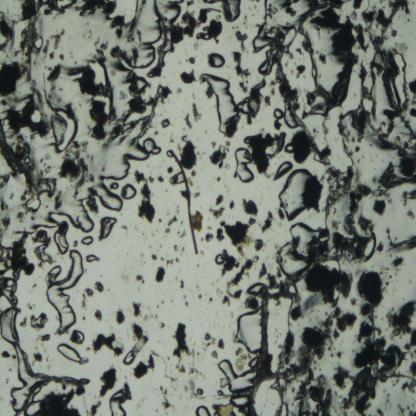Air bubble: (43, 249, 83, 336), (99, 118, 155, 178), (125, 0, 166, 69), (200, 72, 238, 138), (266, 294, 292, 376), (275, 222, 311, 276), (9, 354, 38, 413), (280, 167, 309, 226), (54, 198, 98, 235), (234, 305, 263, 352), (53, 107, 78, 153), (218, 360, 255, 388), (92, 182, 125, 211), (392, 50, 408, 107), (232, 148, 256, 185), (108, 0, 139, 24), (0, 272, 18, 304), (19, 191, 42, 215), (98, 214, 117, 242), (0, 306, 13, 346), (221, 0, 243, 23), (53, 230, 71, 258), (110, 389, 127, 416), (58, 344, 81, 363), (272, 160, 293, 179), (143, 137, 162, 156), (208, 51, 226, 69), (24, 398, 40, 416), (230, 393, 250, 407), (364, 237, 376, 260), (121, 182, 136, 199), (236, 96, 249, 115), (362, 97, 374, 115), (195, 403, 211, 416), (123, 350, 136, 365), (247, 283, 262, 295), (30, 109, 42, 124), (33, 36, 45, 50), (85, 254, 100, 263), (273, 108, 285, 119), (288, 283, 298, 296), (257, 61, 267, 74), (82, 234, 93, 245), (109, 180, 119, 192), (214, 253, 224, 264), (284, 144, 295, 154), (280, 403, 290, 414), (176, 172, 185, 184), (197, 387, 204, 396)
Background material: (341, 265, 416, 416), (314, 13, 369, 104), (0, 122, 56, 197), (0, 122, 57, 194), (310, 225, 367, 268), (302, 263, 352, 306), (294, 317, 334, 370), (0, 226, 36, 281), (172, 4, 218, 46), (369, 33, 395, 107), (292, 370, 333, 416), (4, 82, 37, 136), (243, 129, 275, 183), (344, 181, 376, 234), (58, 148, 93, 196), (374, 156, 412, 200), (221, 220, 264, 258), (325, 161, 357, 212), (363, 0, 415, 31), (222, 258, 254, 301), (37, 388, 82, 416), (21, 227, 53, 265), (70, 60, 101, 98), (16, 16, 40, 62), (0, 57, 28, 96), (98, 60, 115, 121), (84, 99, 108, 142), (124, 72, 148, 115), (301, 0, 344, 24), (262, 25, 299, 50), (247, 77, 267, 123), (280, 329, 298, 378), (304, 172, 325, 213), (138, 182, 158, 224), (232, 50, 250, 92), (330, 304, 355, 334), (193, 18, 225, 41), (154, 350, 178, 380), (208, 139, 231, 169), (352, 105, 371, 141), (111, 46, 139, 70), (75, 0, 117, 16), (98, 366, 119, 398), (0, 12, 15, 54), (180, 136, 197, 171), (42, 0, 76, 17), (26, 309, 49, 334), (258, 263, 280, 288), (357, 58, 370, 100), (383, 102, 402, 128), (133, 356, 154, 379), (390, 233, 416, 251), (159, 384, 176, 410), (278, 0, 298, 22), (222, 249, 237, 278), (22, 0, 42, 21), (172, 338, 192, 359), (191, 348, 205, 378), (48, 29, 68, 50), (338, 120, 353, 148), (357, 216, 376, 238), (333, 369, 352, 390), (126, 20, 143, 43), (44, 65, 63, 85), (211, 402, 238, 416), (93, 39, 108, 64), (183, 376, 198, 401), (235, 349, 252, 371), (130, 324, 149, 342), (234, 28, 247, 53), (180, 68, 198, 86), (261, 0, 279, 18), (398, 186, 416, 204), (242, 198, 258, 218), (111, 13, 127, 32), (173, 321, 189, 339), (157, 84, 173, 102), (378, 266, 391, 288), (292, 304, 307, 323), (93, 330, 118, 341), (193, 207, 204, 232), (0, 212, 13, 233), (29, 347, 44, 364), (263, 210, 273, 235), (129, 300, 144, 316), (119, 382, 131, 402), (293, 61, 306, 79), (192, 101, 203, 122), (374, 199, 389, 214), (210, 205, 226, 219), (408, 79, 416, 107), (91, 399, 104, 416), (214, 388, 229, 402), (303, 92, 317, 107), (276, 199, 286, 219), (375, 240, 386, 258), (390, 256, 405, 269), (351, 146, 366, 159), (69, 329, 86, 340), (214, 336, 227, 350), (204, 330, 214, 348), (155, 266, 165, 283), (402, 206, 416, 218), (134, 170, 146, 183), (396, 403, 408, 416), (94, 280, 105, 294), (318, 52, 329, 66), (214, 193, 224, 208), (167, 214, 179, 226), (167, 174, 179, 186), (81, 29, 93, 41), (218, 296, 231, 307), (116, 310, 126, 324), (75, 384, 86, 396), (410, 104, 416, 126), (227, 198, 236, 212), (42, 41, 51, 55), (0, 198, 9, 212), (186, 54, 196, 66), (143, 313, 159, 320), (264, 94, 272, 108), (136, 274, 146, 285), (376, 406, 387, 416), (177, 364, 187, 375), (93, 310, 102, 322), (207, 83, 214, 98), (240, 13, 248, 26), (185, 115, 193, 128), (351, 0, 361, 10), (0, 349, 10, 359), (161, 117, 170, 128), (385, 226, 392, 240), (20, 315, 27, 329), (39, 334, 51, 342), (206, 233, 214, 245), (115, 28, 123, 40), (84, 287, 93, 297), (211, 348, 219, 359), (121, 272, 130, 281), (214, 174, 222, 184), (172, 242, 180, 252), (192, 190, 200, 200), (179, 230, 186, 241), (147, 175, 156, 183), (178, 278, 184, 290), (351, 10, 357, 22), (71, 238, 79, 247), (190, 169, 198, 178), (185, 0, 195, 7), (169, 0, 183, 5), (58, 384, 69, 390), (268, 80, 276, 88), (156, 176, 164, 184), (198, 249, 206, 257), (166, 257, 174, 265), (48, 52, 56, 60), (192, 41, 199, 50), (183, 296, 188, 308), (167, 165, 173, 174), (189, 176, 194, 186), (181, 134, 187, 142), (59, 53, 64, 62), (150, 255, 157, 261), (165, 228, 170, 236), (198, 293, 203, 301), (338, 352, 343, 360), (159, 323, 165, 329), (11, 354, 17, 360), (270, 88, 275, 95), (30, 284, 38, 288), (121, 225, 126, 231), (181, 247, 187, 252), (175, 258, 180, 264), (156, 304, 160, 309), (178, 92, 182, 96), (209, 298, 213, 301)
Cellulose filter fibre: (274, 48, 330, 163), (16, 344, 90, 412), (246, 282, 274, 414), (366, 124, 410, 155)
Microfibre: (170, 150, 199, 256)
